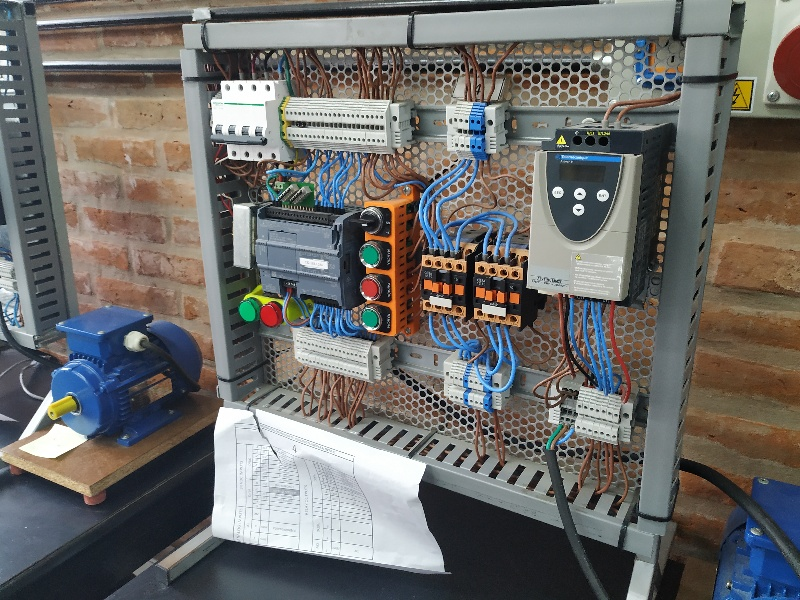Tablero 4: (192, 37, 679, 498)
